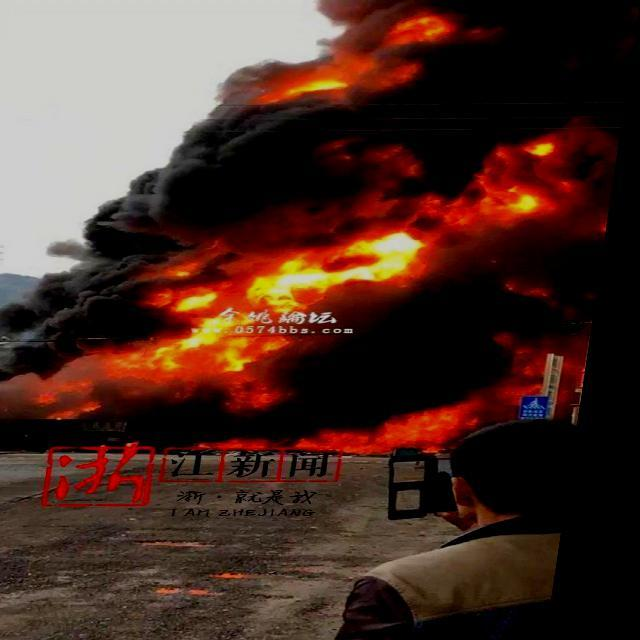Fire: (75, 18, 587, 447)
